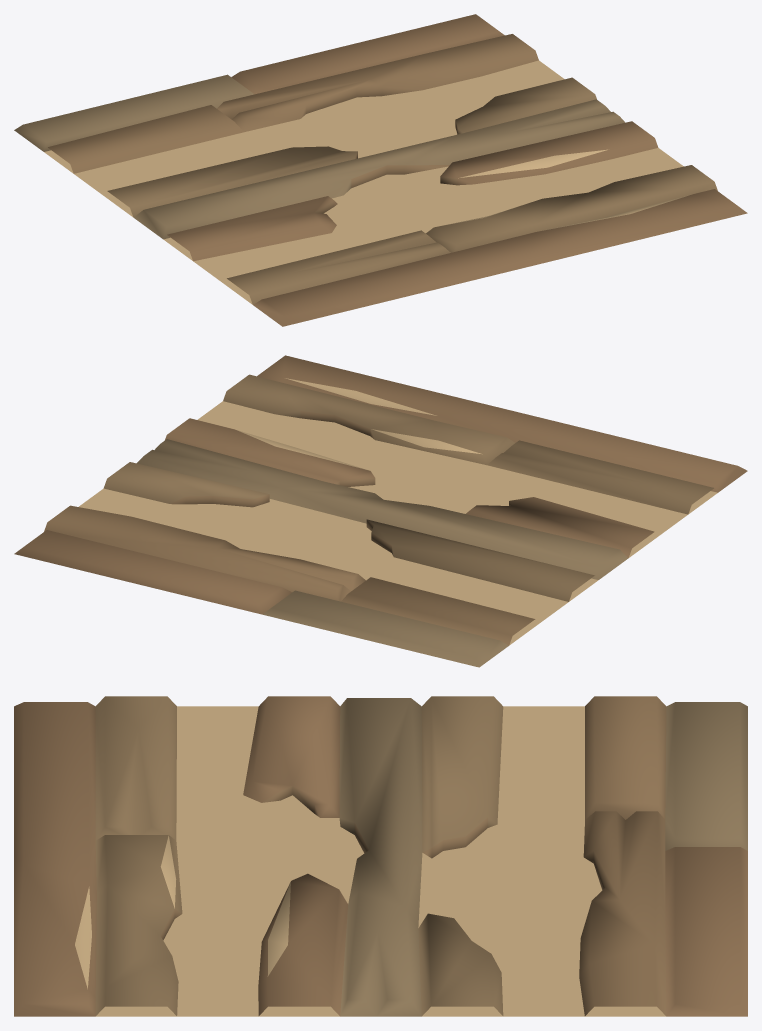
The model's file is rpgpp_av_floor_02d_3x3.gltf.
The picture shows the model from 3 angles, top to bottom: view 1: azimuth 30°, elevation 25°; view 2: azimuth 150°, elevation 25°; view 3: azimuth 270°, elevation 25°; orthographic projection. The views are drawn at different scales.
Parts seen in each view (by area): view 1: rpgpp_av_floor_02d_3x3; view 2: rpgpp_av_floor_02d_3x3; view 3: rpgpp_av_floor_02d_3x3.
Part boxes in pixels (<box>): rpgpp_av_floor_02d_3x3: <box>14,14,747,326</box>; rpgpp_av_floor_02d_3x3: <box>14,355,747,667</box>; rpgpp_av_floor_02d_3x3: <box>14,696,747,1016</box>.
Bounding box in the file's own units: 0.03 × 0.000584 × 0.03.
Materials: 1 (1 with a texture image).
